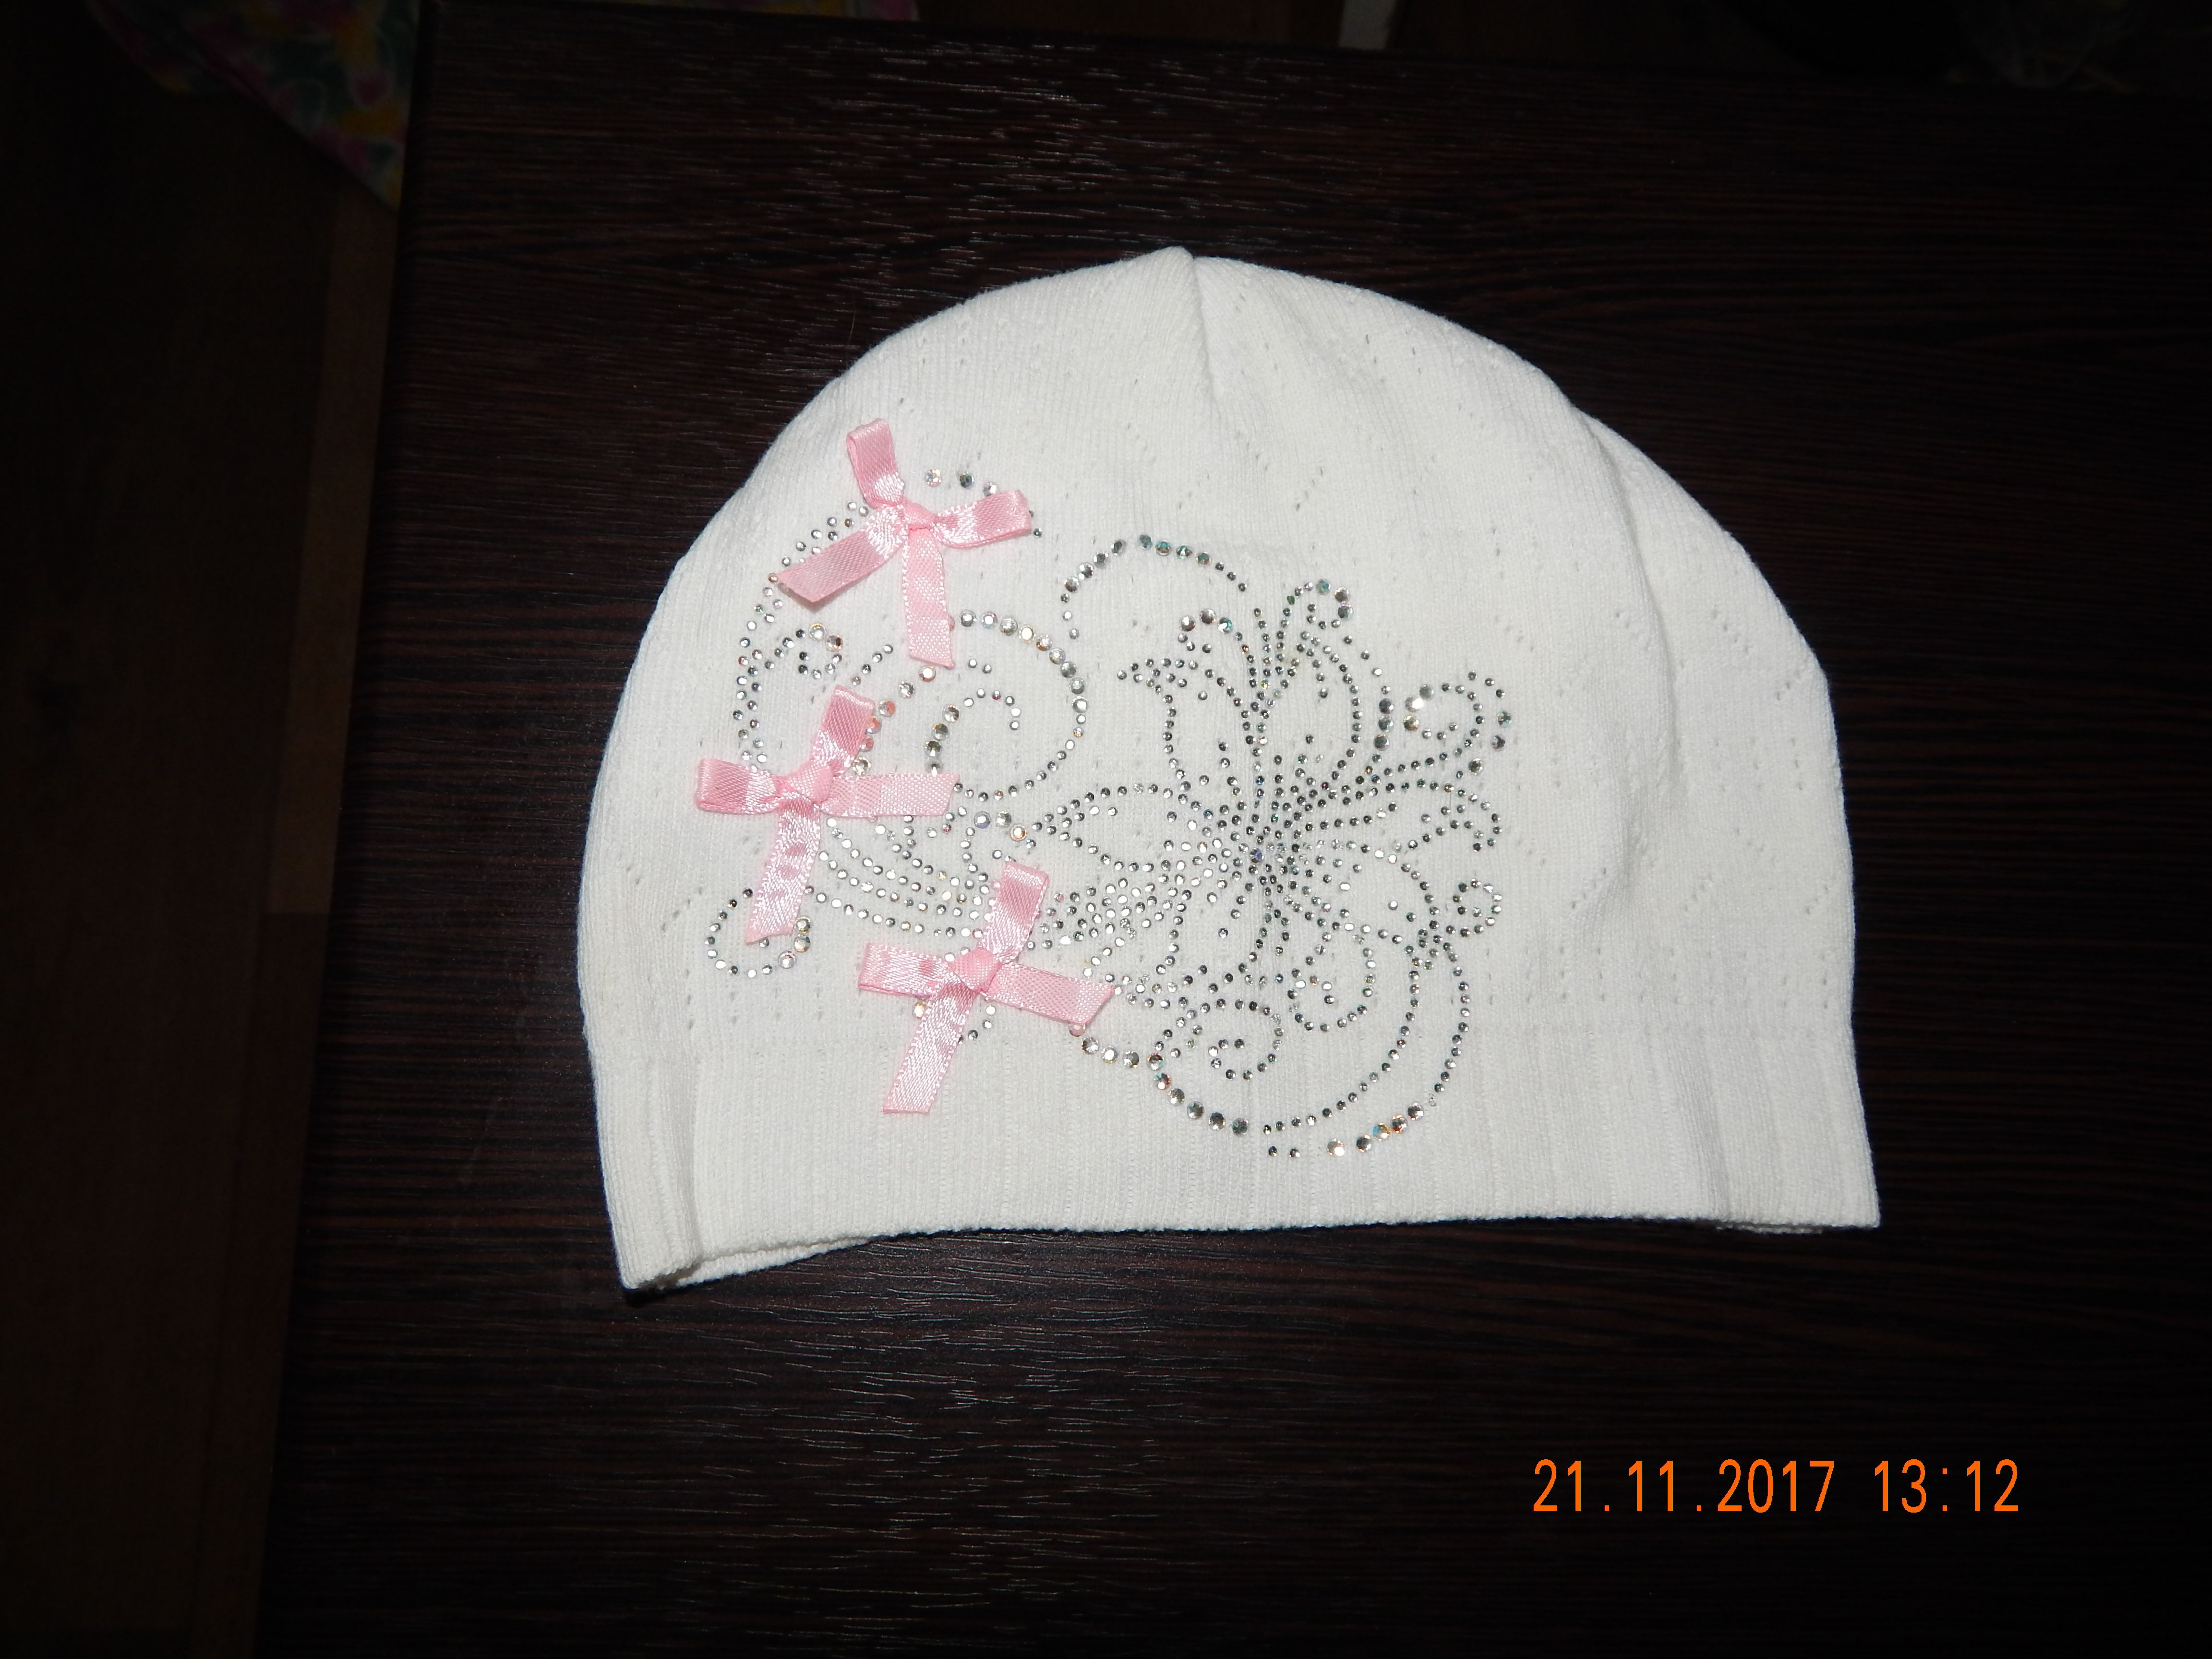clothes: (529, 230, 1898, 1253)
